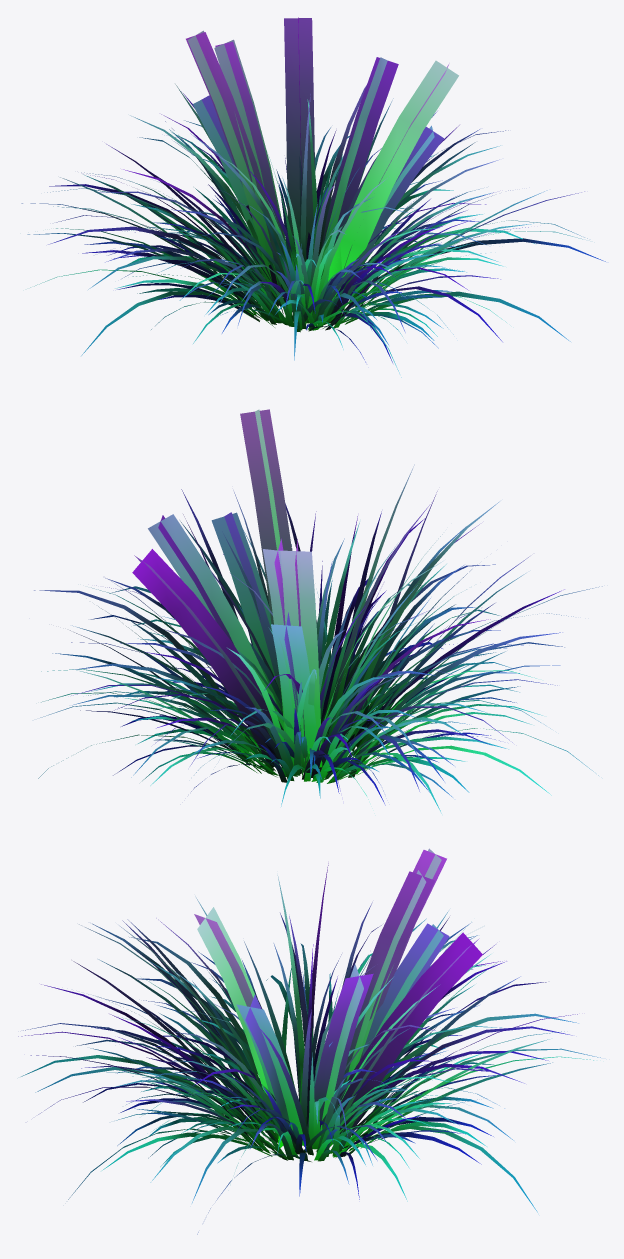
Rendered from Grass_DikeTuft_A_HD.fbx.
3 views of the same model, one above another, from view 1: azimuth 30°, elevation 25°; view 2: azimuth 150°, elevation 25°; view 3: azimuth 270°, elevation 25° (orthographic). The views are drawn at different scales.
Parts seen in each view (by area): view 1: Grass_DikeTuft_A_HD_LOD0; view 2: Grass_DikeTuft_A_HD_LOD0; view 3: Grass_DikeTuft_A_HD_LOD0.
Boxes of the visible parts, <box> form: Grass_DikeTuft_A_HD_LOD0: <box>21,17,605,377</box>; Grass_DikeTuft_A_HD_LOD0: <box>34,409,602,813</box>; Grass_DikeTuft_A_HD_LOD0: <box>18,848,600,1234</box>.
Size of what is drawn, in the model's own units: 0.622 by 0.3052 by 0.5942.
